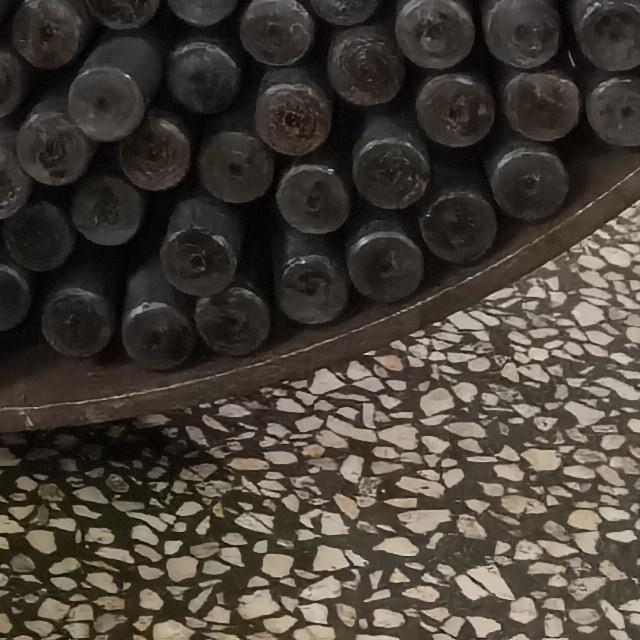tool: (242, 60, 332, 153), (13, 94, 95, 185), (113, 106, 192, 192), (492, 151, 580, 227), (414, 68, 494, 146), (328, 26, 404, 106), (165, 39, 242, 115), (2, 0, 88, 68), (269, 258, 352, 328), (502, 76, 580, 150), (196, 282, 270, 358), (274, 159, 349, 233), (195, 133, 272, 204), (68, 175, 143, 246), (429, 194, 502, 266), (395, 0, 474, 66), (0, 198, 73, 269), (490, 0, 566, 68), (356, 237, 432, 304), (119, 308, 200, 370), (360, 138, 431, 207), (72, 71, 143, 133), (48, 289, 108, 362), (164, 232, 233, 293), (587, 70, 640, 147), (241, 4, 310, 62), (581, 5, 640, 69), (0, 260, 33, 354), (0, 110, 28, 220), (157, 0, 271, 25), (294, 0, 398, 23), (83, 1, 164, 30), (0, 38, 25, 124)
